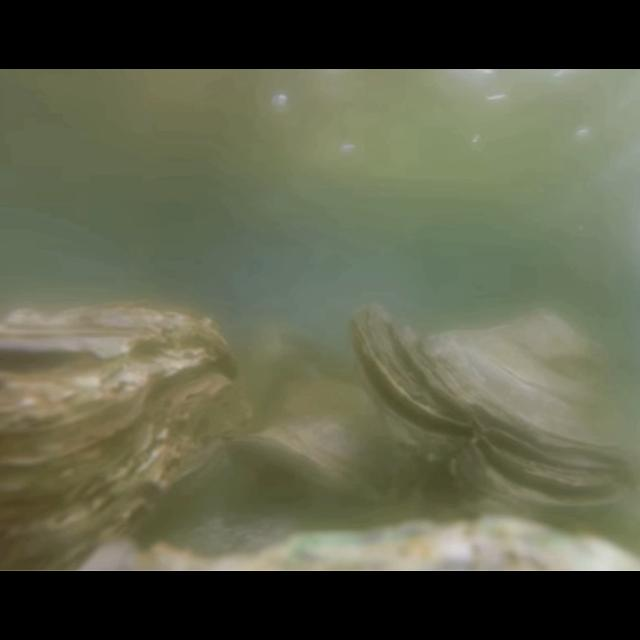Oyster-Closed: (0, 305, 256, 571)
Oyster-Indeterminate: (240, 378, 424, 508)
Oyster-Open: (348, 302, 640, 526)
